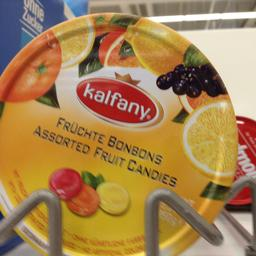candy: (1, 10, 233, 254)
